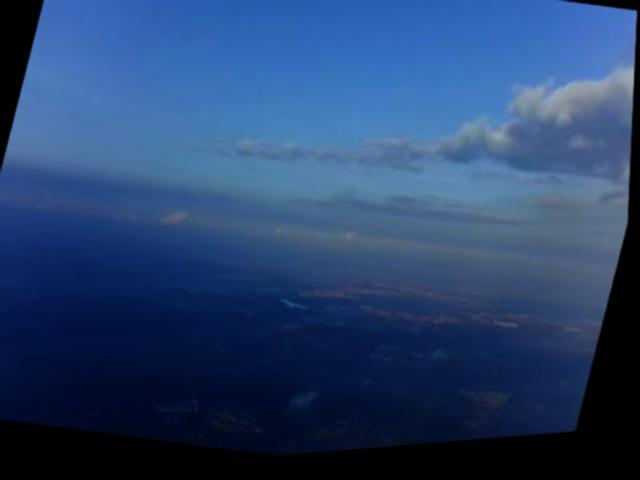uav: (280, 293, 316, 324)
